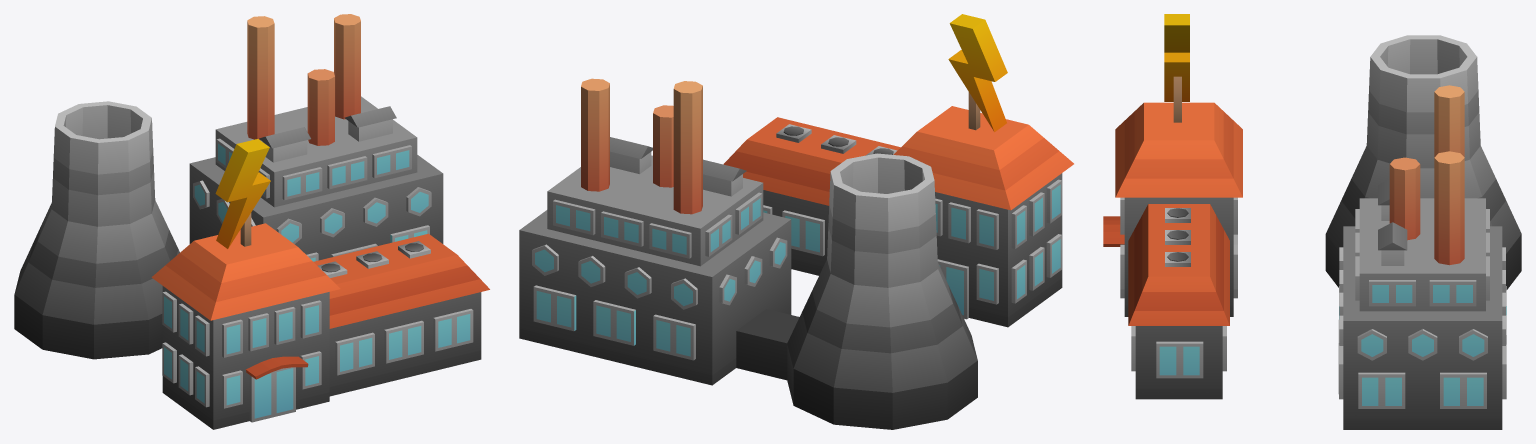
File: power plant.fbx
The picture shows the model from 3 angles, left to right: view 1: azimuth 30°, elevation 25°; view 2: azimuth 150°, elevation 25°; view 3: azimuth 270°, elevation 25°; orthographic projection. The views are drawn at different scales.
Visible parts, largest first — view 1: power_plant; view 2: power_plant; view 3: power_plant.
Part boxes in pixels (<box>): power_plant: <box>14,14,489,429</box>; power_plant: <box>519,14,1073,429</box>; power_plant: <box>1103,14,1521,429</box>.
Size of the model in its own units: 1743 by 1096 by 1540.
1 material, 1 textured.
